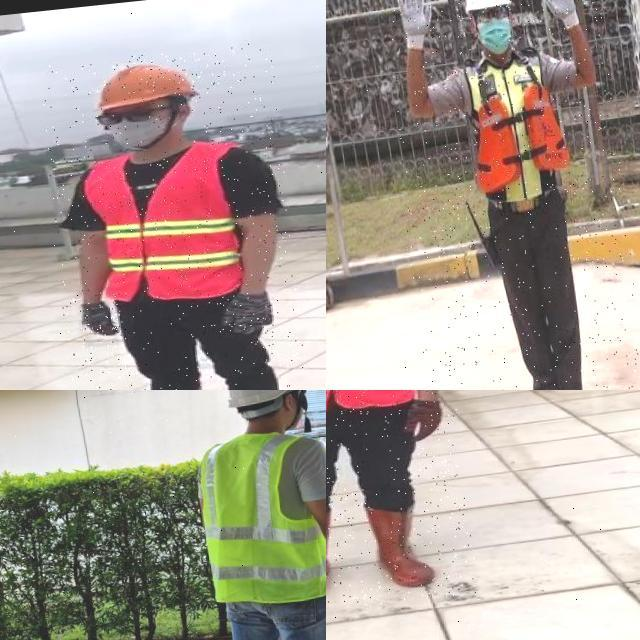boots: (366, 503, 434, 592), (326, 514, 342, 601)
helmet: (86, 56, 198, 114), (219, 390, 311, 419), (458, 0, 517, 19)
vest: (77, 140, 250, 311), (191, 421, 326, 613), (459, 41, 579, 215)
